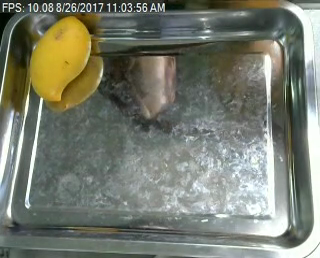Mango: (22, 15, 97, 101)
